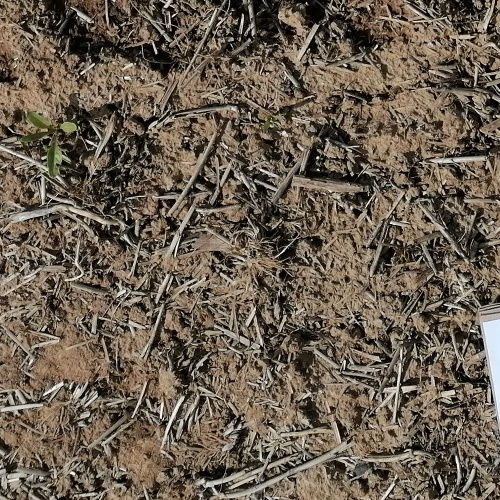beet: (21, 112, 77, 177)
